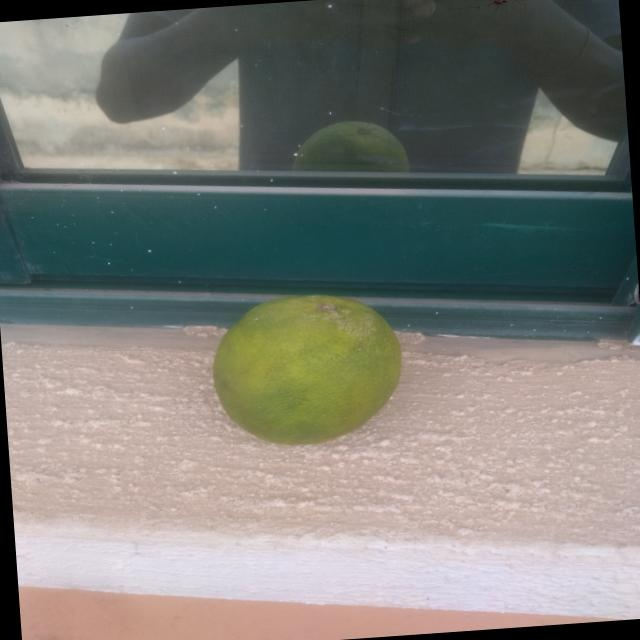agrume: (184, 270, 441, 478)
